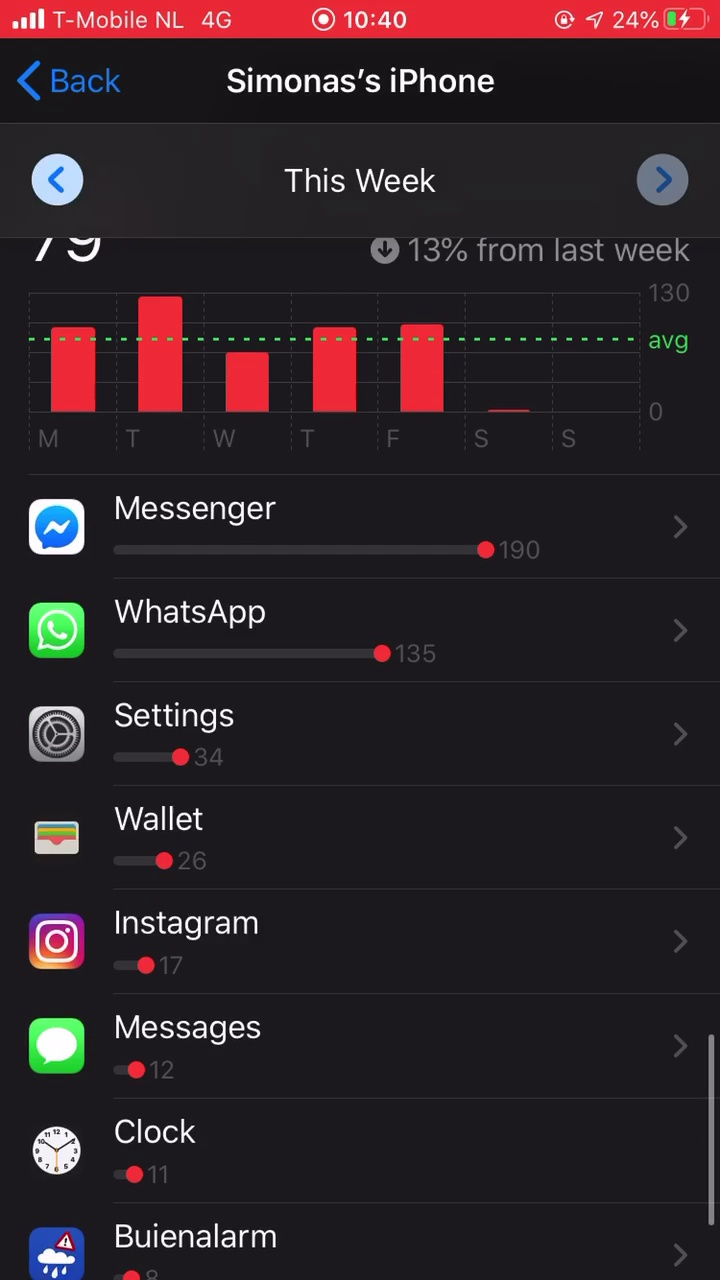not_app: (18, 480, 559, 574), (21, 594, 468, 675), (31, 903, 307, 985), (25, 1007, 301, 1089), (26, 699, 271, 775), (23, 802, 275, 874), (25, 1114, 261, 1185)
week: (268, 150, 446, 201)
